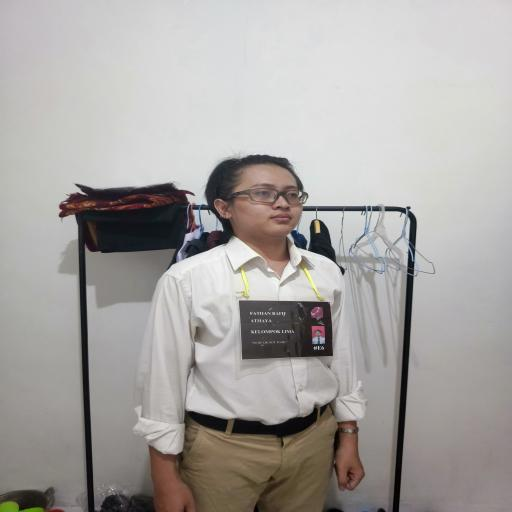celana_salah: (185, 419, 346, 512)
kemeja_benar: (144, 246, 376, 417)
nametag_ada: (224, 272, 348, 366)
sabuk_ada: (182, 407, 348, 440)
